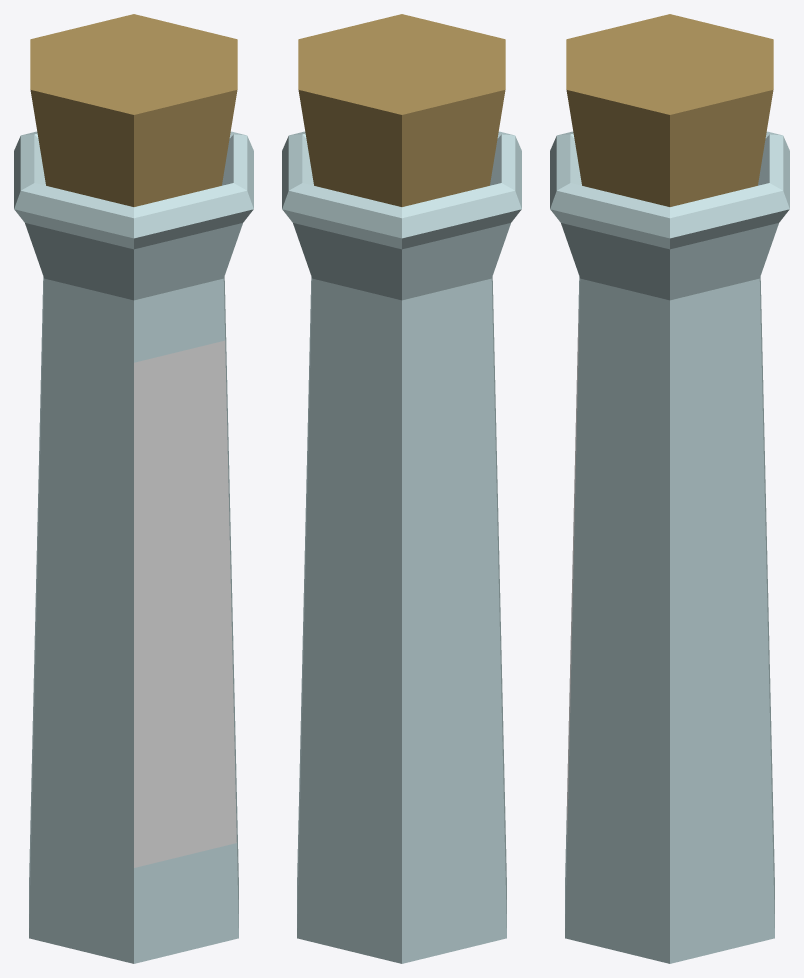
Rendered from Potion5.fbx.
3 renders of one model, left to right at view 1: azimuth 30°, elevation 25°; view 2: azimuth 150°, elevation 25°; view 3: azimuth 270°, elevation 25°, orthographic.
Visible parts, largest first — view 1: pSphere5; view 2: pSphere5; view 3: pSphere5.
Boxes of the visible parts, x1,y1,x2,y2 form: pSphere5: (14,14,253,963); pSphere5: (282,14,521,963); pSphere5: (550,14,789,963).
Bounding box in the file's own units: 0.0231 × 0.0801 × 0.02.
